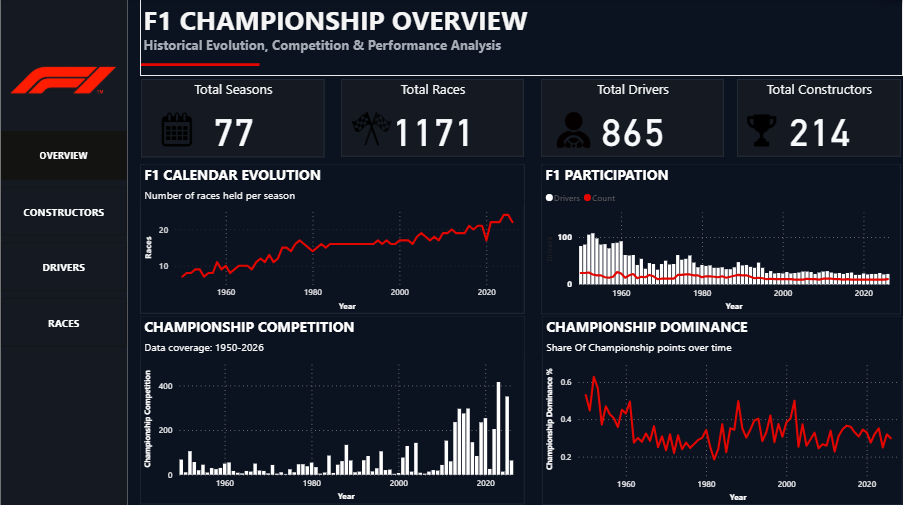

Layout of this report page (visuals, bound fields, positions):
{"tool":"powerbi","page":{"name":"OVERVIEW","canvas":[1280,720],"ordinal":0},"visuals":[{"type":"shape","box":[0,0,181.4,720],"z":0},{"type":"textbox","box":[197.9,0,1082.1,110.5],"z":1000},{"type":"card","title":"Total Seasons","fields":{"Values":["Count(races.year)"]},"box":[199.7,114.1,260.3,110.5],"z":2000},{"type":"card","title":"Total Races","fields":{"Values":["Count(races.raceId)"]},"box":[483.7,114.3,259.2,110.2],"z":3000},{"type":"card","title":"Total Constructors","fields":{"Values":["CountNonNull(constructors.constructorId)"]},"box":[1044.9,114.3,232,110.2],"z":4000},{"type":"card","title":"Total Drivers","fields":{"Values":["CountNonNull(drivers.driverId)"]},"box":[767.3,114.3,259.2,110.2],"z":5000},{"type":"shape","box":[200,18,168,152],"z":6000},{"type":"lineChart","title":"F1 CALENDAR EVOLUTION","fields":{"Category":["races.year"],"Y":["Count(races.raceId)"]},"box":[198,235,545,212],"z":7000},{"type":"clusteredColumnChart","title":"CHAMPIONSHIP COMPETITION","fields":{"Category":["races.year"],"Y":["constructor_results.Championship Competition"]},"box":[199,451,545,267],"z":8000},{"type":"image","box":[6,34,168,158],"z":9000},{"type":"image","box":[220,156.7,61.7,58.3],"z":10000},{"type":"image","box":[483.3,151.7,86.7,66.7],"z":11000},{"type":"image","box":[780,151.7,66.7,70],"z":12000},{"type":"image","box":[1045,158.3,70,58.3],"z":13000},{"type":"lineClusteredColumnComboChart","title":"F1 PARTICIPATION","fields":{"Category":["races.year"],"Y2":["Count(results.constructorId)"],"Y":["Count(results.driverId)"]},"box":[767.1,234.9,509.9,212.6],"z":14000},{"type":"pageNavigator","box":[2,188,178,308],"z":15000},{"type":"lineChart","title":"CHAMPIONSHIP DOMINANCE","fields":{"Category":["races.year"],"Y":["constructor_results.Championship Dominance %"]},"box":[768.6,450.5,511.4,268],"z":16000}]}

Visuals, with their boxes on the page's 1280x720 design canvas (x1, y1, x2, y2). These are canvas units, not pixel positions in the 903x505 screenshot, which may show the page scaled, cropped or inside an application window:
shape: select_region(0, 0, 181, 720)
textbox: select_region(198, 0, 1280, 110)
"Total Seasons" card: select_region(200, 114, 460, 225)
"Total Races" card: select_region(484, 114, 743, 224)
"Total Constructors" card: select_region(1045, 114, 1277, 224)
"Total Drivers" card: select_region(767, 114, 1026, 224)
shape: select_region(200, 18, 368, 170)
"F1 CALENDAR EVOLUTION" lineChart: select_region(198, 235, 743, 447)
"CHAMPIONSHIP COMPETITION" clusteredColumnChart: select_region(199, 451, 744, 718)
image: select_region(6, 34, 174, 192)
image: select_region(220, 157, 282, 215)
image: select_region(483, 152, 570, 218)
image: select_region(780, 152, 847, 222)
image: select_region(1045, 158, 1115, 217)
"F1 PARTICIPATION" lineClusteredColumnComboChart: select_region(767, 235, 1277, 448)
pageNavigator: select_region(2, 188, 180, 496)
"CHAMPIONSHIP DOMINANCE" lineChart: select_region(769, 450, 1280, 718)
